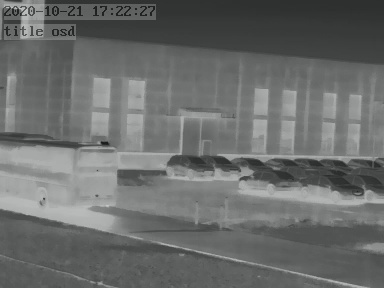vehicle: (1, 136, 121, 213), (303, 173, 364, 200), (238, 169, 303, 191), (165, 153, 213, 178), (348, 173, 382, 200), (204, 153, 242, 177), (233, 155, 270, 171), (263, 155, 297, 169), (347, 156, 380, 170), (317, 156, 347, 170), (295, 155, 324, 169)
